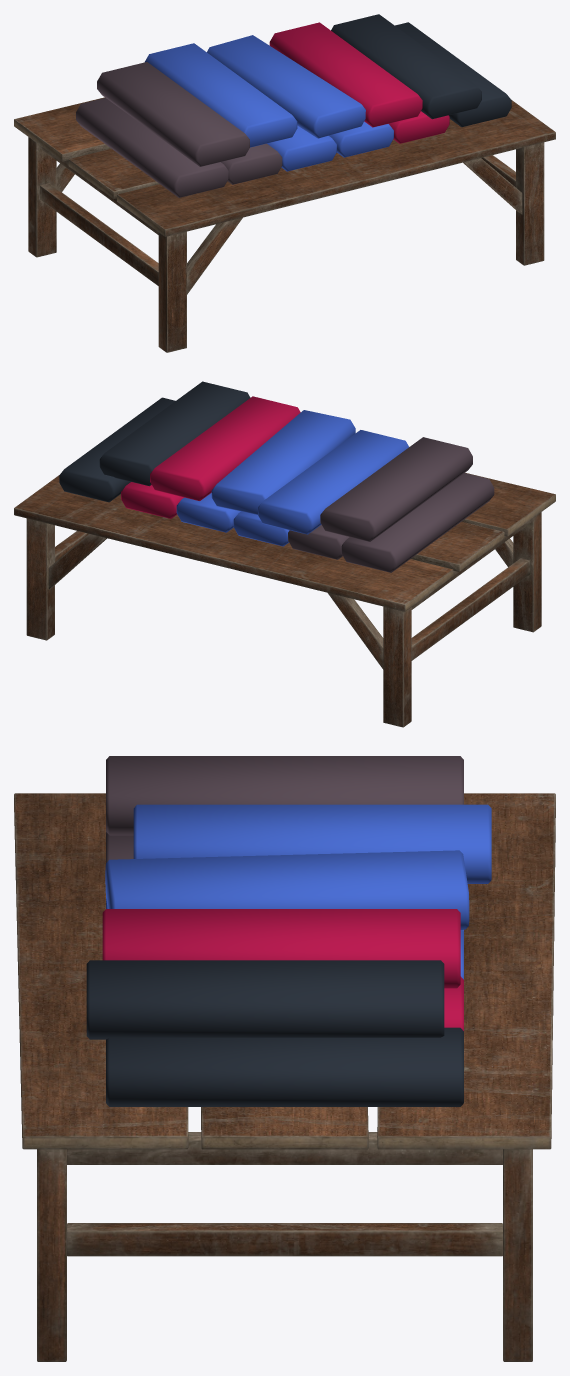
The picture shows the model from 3 angles, top to bottom: view 1: azimuth 30°, elevation 25°; view 2: azimuth 150°, elevation 25°; view 3: azimuth 270°, elevation 25°; orthographic projection. The views are drawn at different scales.
Parts seen in each view (by area): view 1: Table, ColorCloth_C.006, ColorCloth_D.003, ColorCloth_B.003, ColorCloth_A.003, ColorCloth_D.007, ColorCloth_C.003, ColorCloth_A, ColorCloth_D, ColorCloth_C.004, ColorCloth_D.005, ColorCloth_B; view 2: Table, ColorCloth_C.006, ColorCloth_B.003, ColorCloth_D.003, ColorCloth_D.007, ColorCloth_A.003, ColorCloth_C.003, ColorCloth_A, ColorCloth_D.005, ColorCloth_B, ColorCloth_C.004, ColorCloth_D; view 3: Table, ColorCloth_A.003, ColorCloth_A, ColorCloth_D.003, ColorCloth_B.003, ColorCloth_D.007, ColorCloth_C.006, ColorCloth_B.
Boxes of the visible parts, x1=… form: Table: x1=14, y1=97, x2=555, y2=352; ColorCloth_C.006: x1=97, y1=62, x2=249, y2=166; ColorCloth_D.003: x1=207, y1=35, x2=365, y2=138; ColorCloth_B.003: x1=269, y1=22, x2=422, y2=127; ColorCloth_A.003: x1=331, y1=14, x2=481, y2=119; ColorCloth_D.007: x1=145, y1=43, x2=297, y2=147; ColorCloth_C.003: x1=76, y1=98, x2=228, y2=197; ColorCloth_A: x1=395, y1=22, x2=511, y2=127; ColorCloth_D: x1=267, y1=125, x2=336, y2=171; ColorCloth_C.004: x1=221, y1=143, x2=282, y2=184; ColorCloth_D.005: x1=329, y1=121, x2=393, y2=157; ColorCloth_B: x1=388, y1=111, x2=449, y2=143; Table: x1=14, y1=472, x2=555, y2=727; ColorCloth_C.006: x1=320, y1=437, x2=472, y2=541; ColorCloth_B.003: x1=150, y1=396, x2=300, y2=500; ColorCloth_D.003: x1=211, y1=410, x2=355, y2=514; ColorCloth_D.007: x1=258, y1=430, x2=408, y2=534; ColorCloth_A.003: x1=99, y1=381, x2=250, y2=486; ColorCloth_C.003: x1=341, y1=473, x2=494, y2=572; ColorCloth_A: x1=59, y1=397, x2=175, y2=502; ColorCloth_D.005: x1=176, y1=493, x2=240, y2=532; ColorCloth_B: x1=121, y1=482, x2=183, y2=518; ColorCloth_C.004: x1=288, y1=525, x2=349, y2=559; ColorCloth_D: x1=233, y1=511, x2=289, y2=546; Table: x1=14, y1=793, x2=555, y2=1361; ColorCloth_A.003: x1=86, y1=960, x2=444, y2=1039; ColorCloth_A: x1=106, y1=1027, x2=463, y2=1106; ColorCloth_D.003: x1=105, y1=850, x2=469, y2=929; ColorCloth_B.003: x1=102, y1=909, x2=460, y2=988; ColorCloth_D.007: x1=133, y1=804, x2=491, y2=883; ColorCloth_C.006: x1=106, y1=756, x2=463, y2=835; ColorCloth_B: x1=444, y1=976, x2=463, y2=1030.
Size of the model in its own units: 2 by 0.8779 by 1.33.
2 materials, 2 textured.
